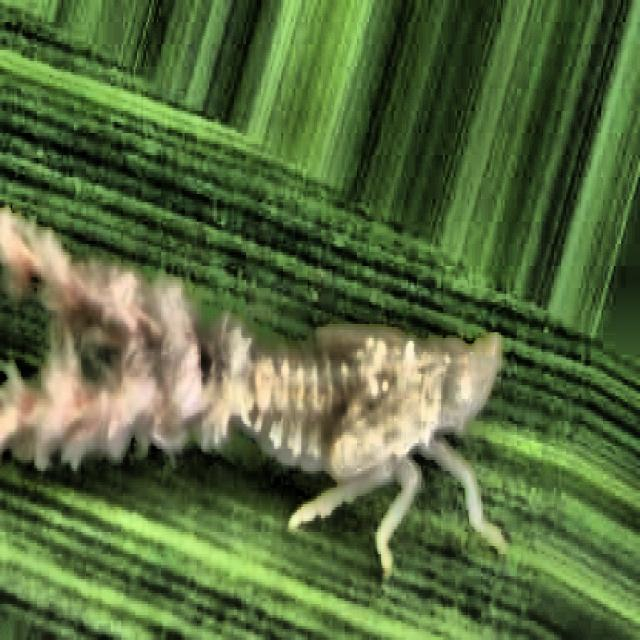Pyrilla-perpusilla: (2, 225, 540, 602)
